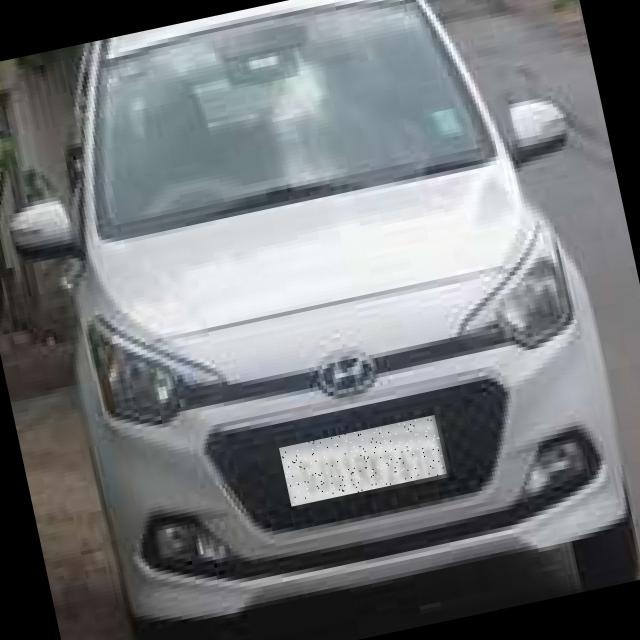Plate: (280, 415, 449, 507)
